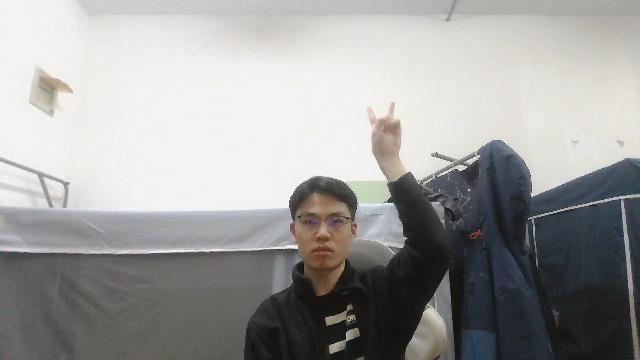yes: (363, 98, 404, 169)
